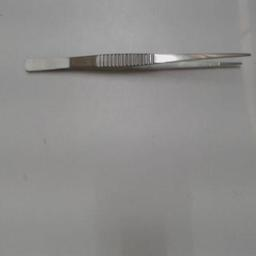DeBakey Dissector: (15, 38, 253, 86)
